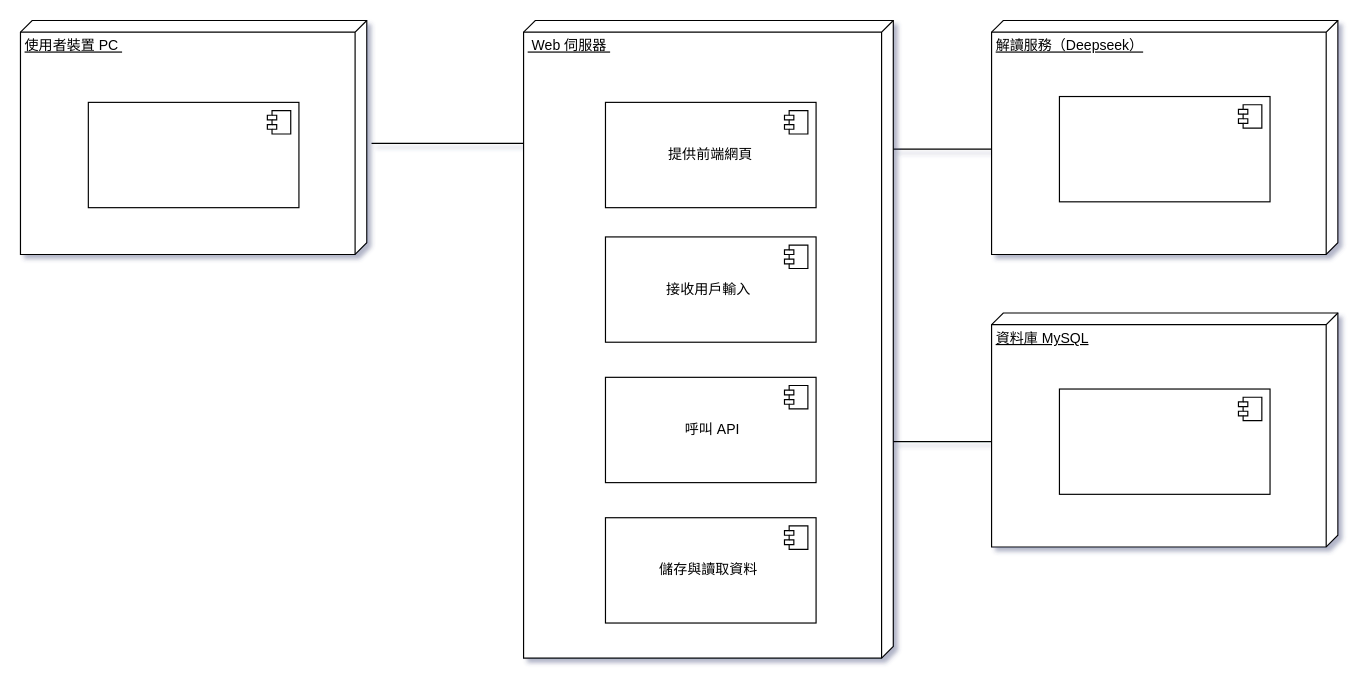
The diagram is 1365 pixels wide and 686 high, and some of its shapes have lost their labels. Each missing label, with the centre of its shape:
"(瀏覽器/Web UI)" belongs at point 193,154.
"儲存對話紀錄、使用者資料" belongs at point 1164,441.
"回應夢境的解析" belongs at point 1164,148.
